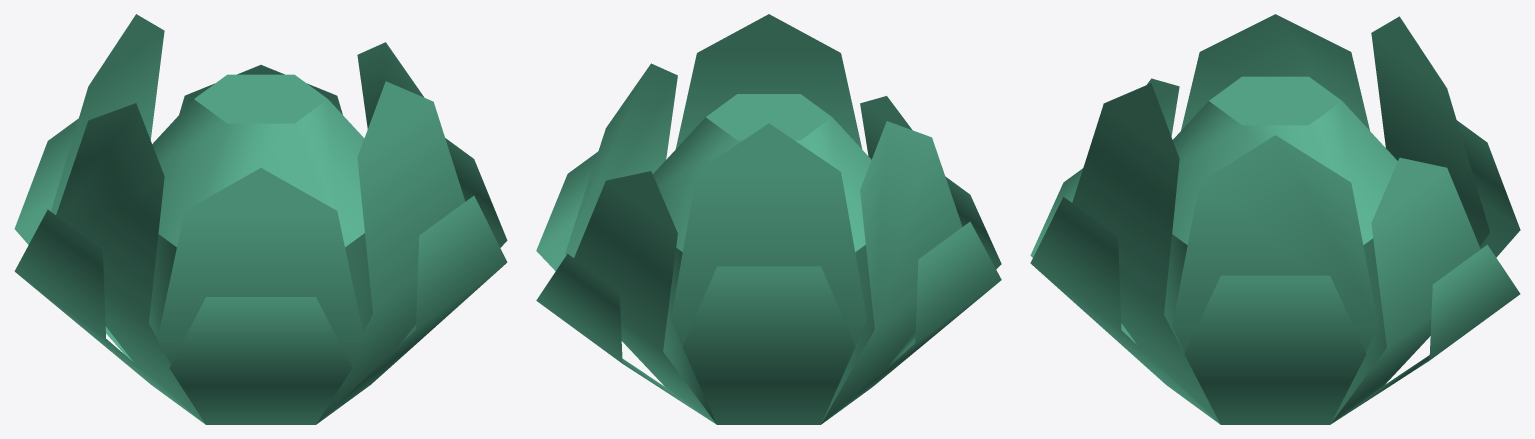
Rendered from Cabbage.glb.
3 renders of one model, left to right at view 1: azimuth 30°, elevation 25°; view 2: azimuth 150°, elevation 25°; view 3: azimuth 270°, elevation 25°, orthographic. The views are drawn at different scales.
Parts seen in each view (by area): view 1: cabbage; view 2: cabbage; view 3: cabbage.
Part boxes in pixels (box(x1,y1,x2,y2)): cabbage: box(14, 14, 507, 424); cabbage: box(536, 14, 1001, 424); cabbage: box(1030, 14, 1520, 424).
Bounding box in the file's own units: 0.3795 × 0.3074 × 0.4036.
